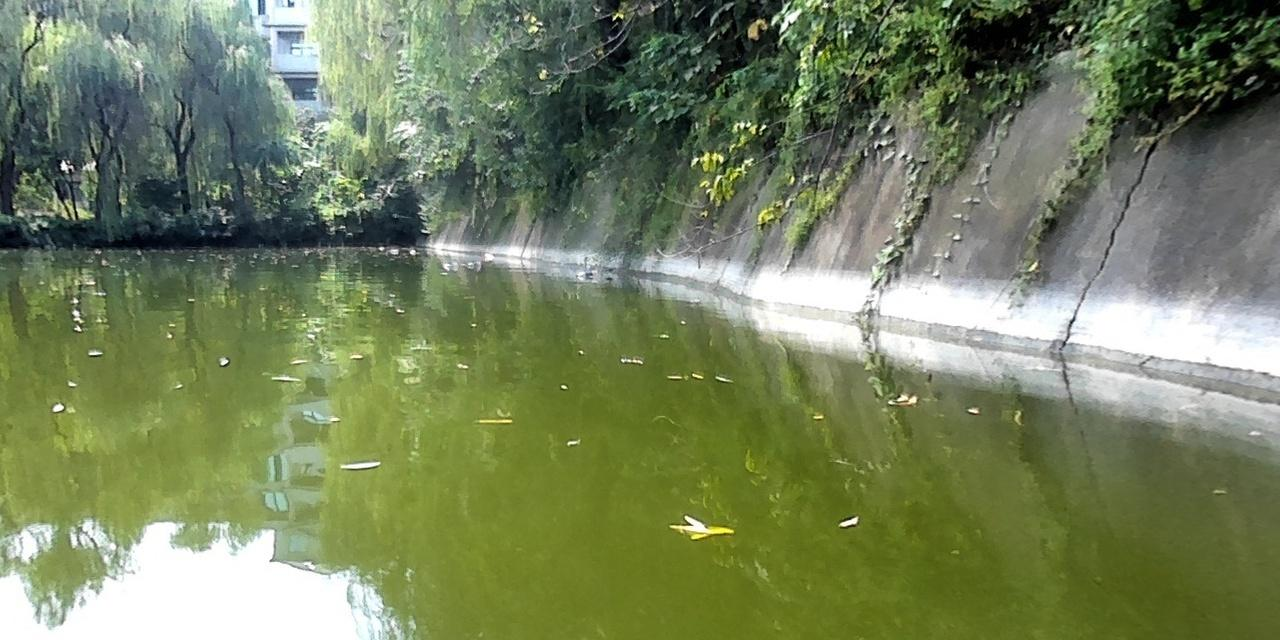bottle: (570, 267, 601, 279), (461, 256, 484, 267), (437, 258, 459, 267)
